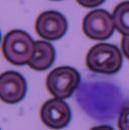L: (74, 74, 127, 125)
